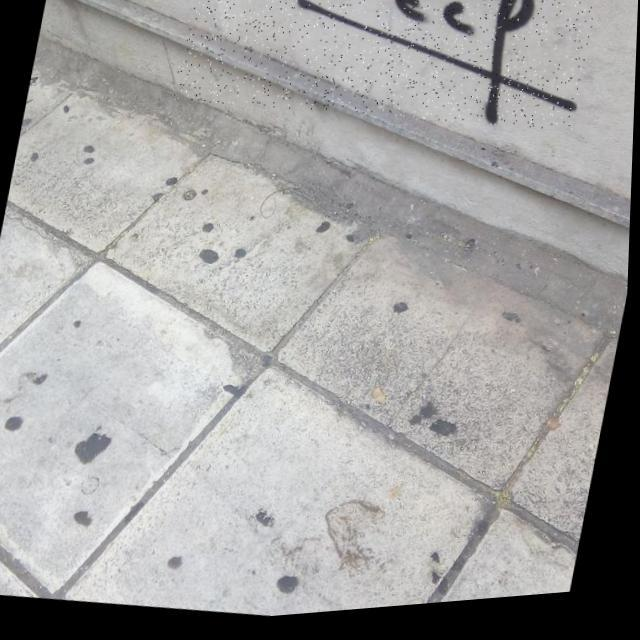-: (171, 0, 600, 166)
